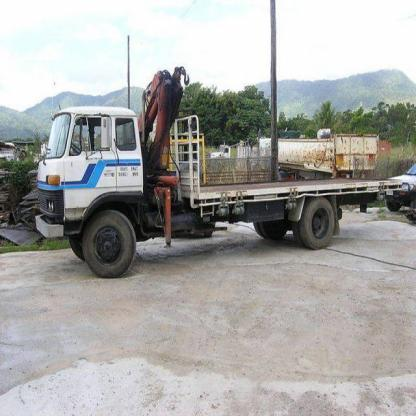truck: (38, 63, 406, 278)
